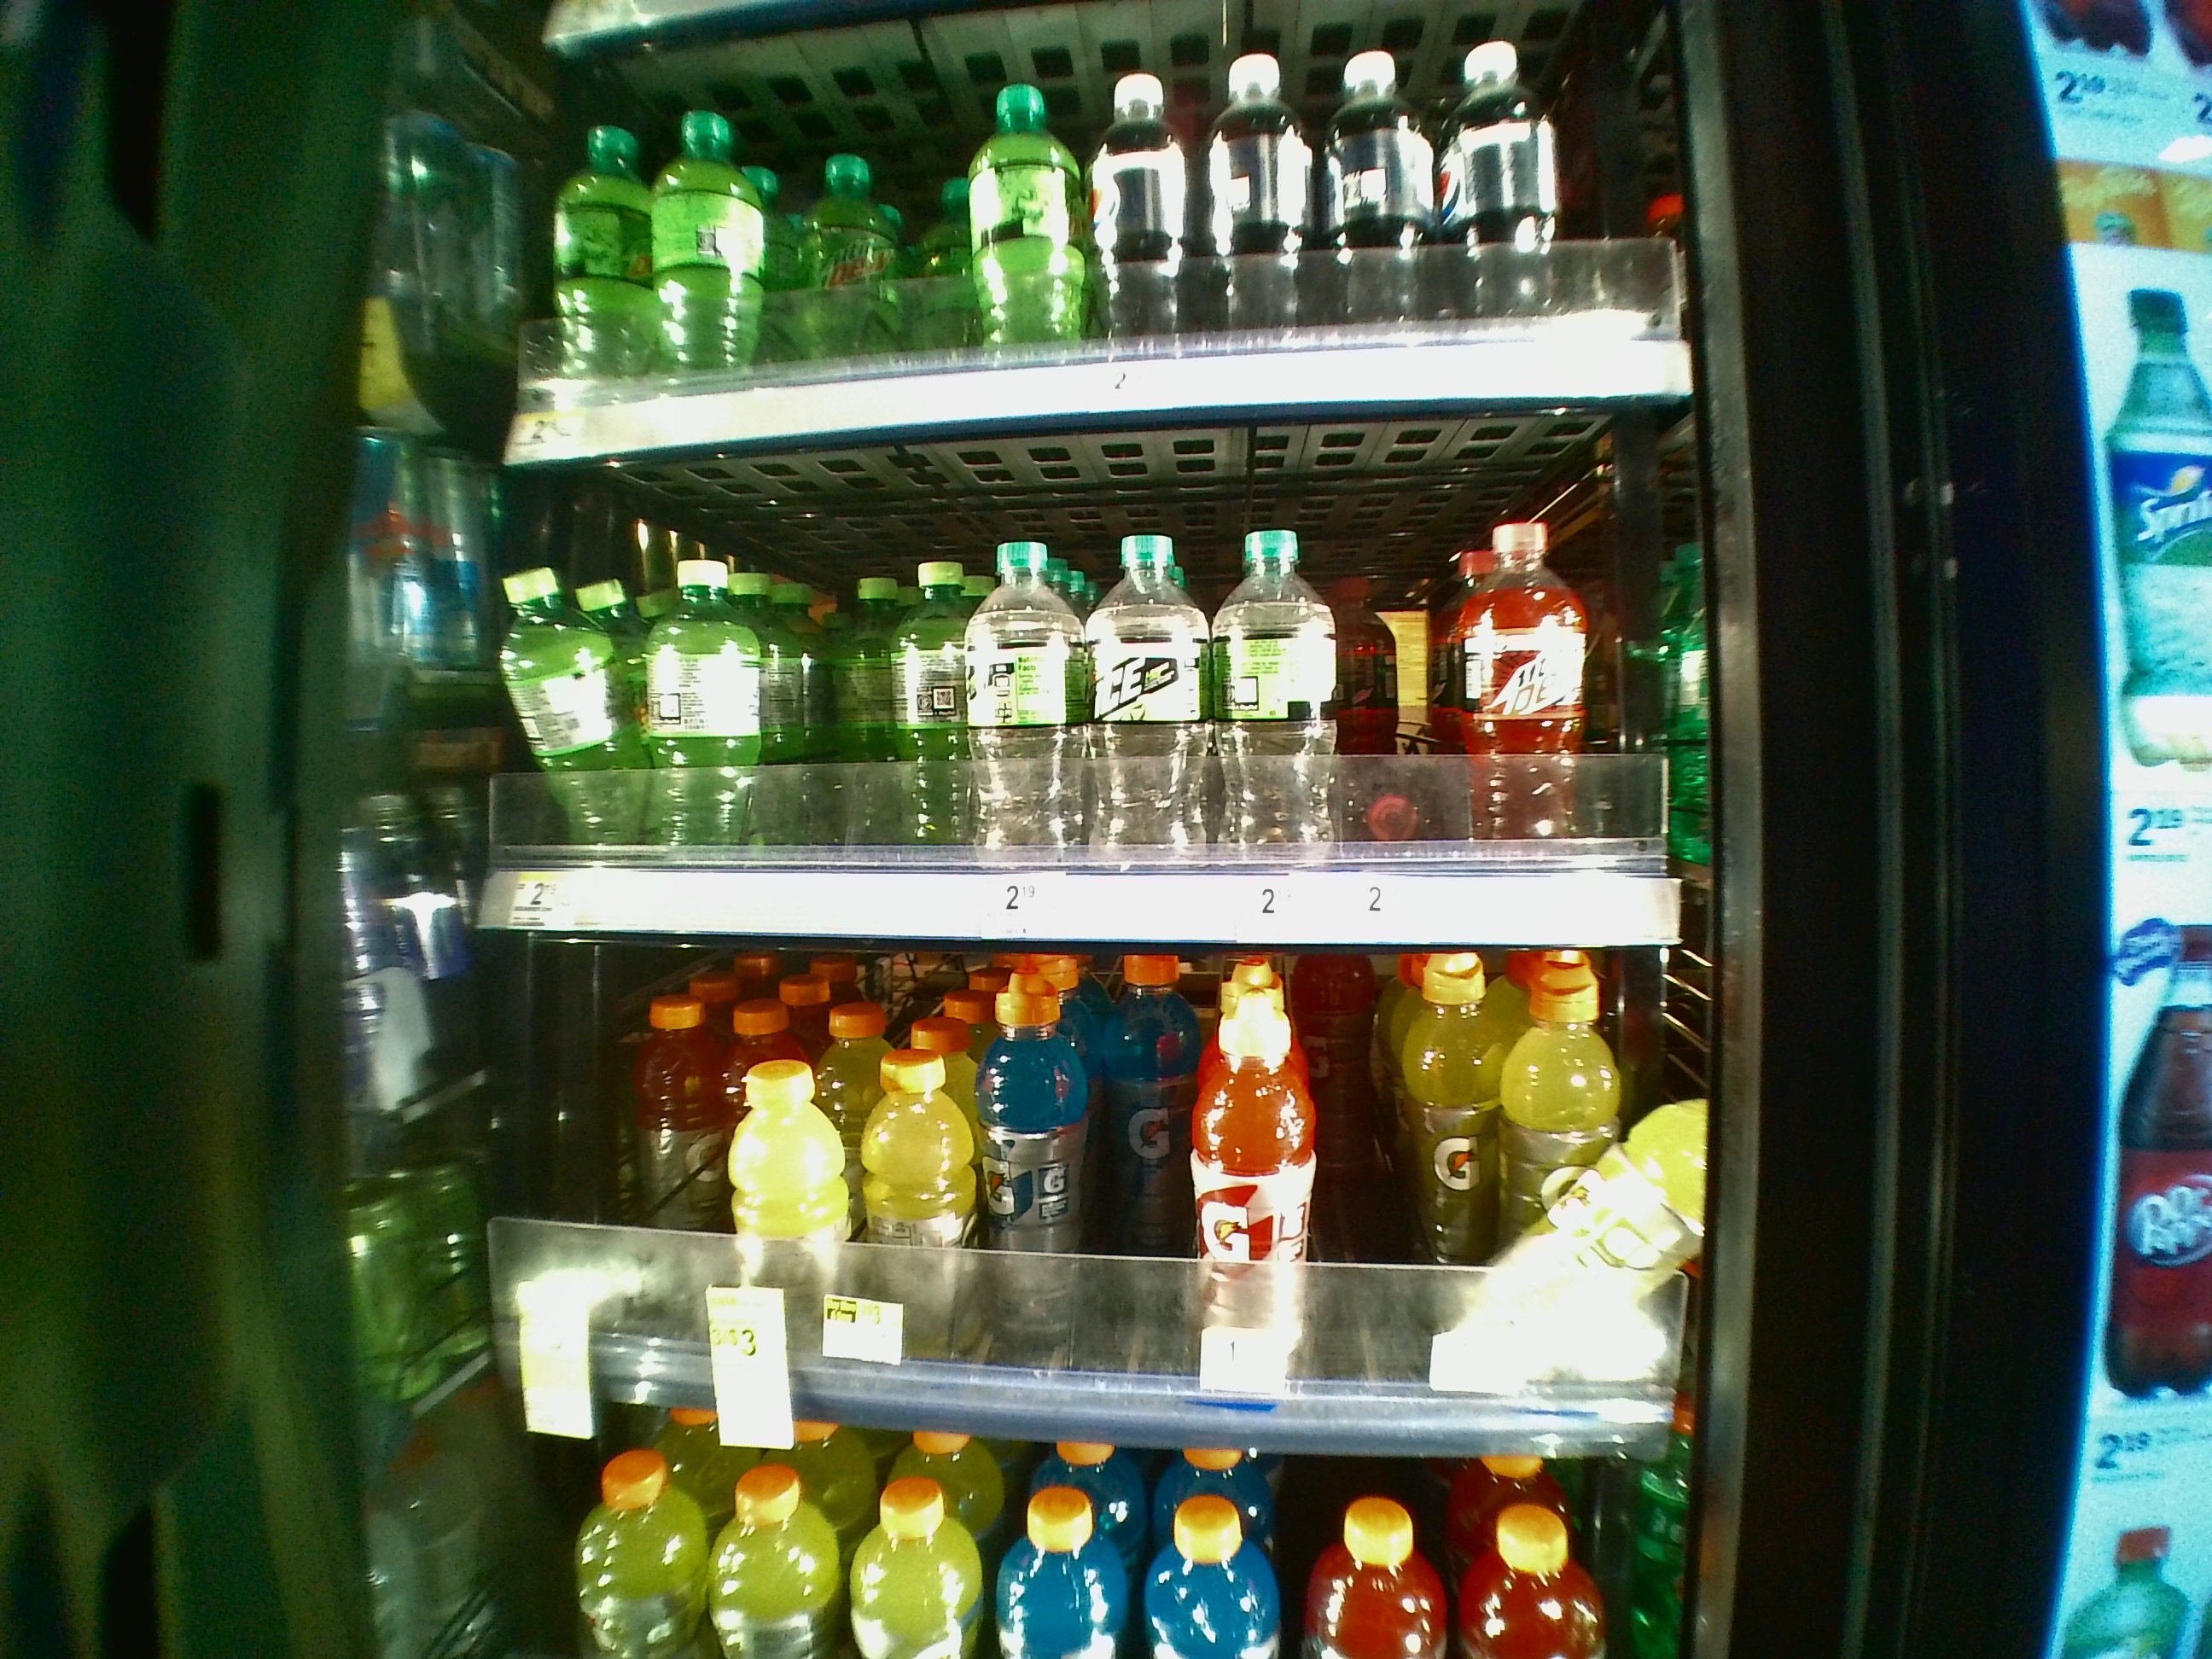shelf: (496, 422, 1752, 927), (477, 929, 1764, 1415)
